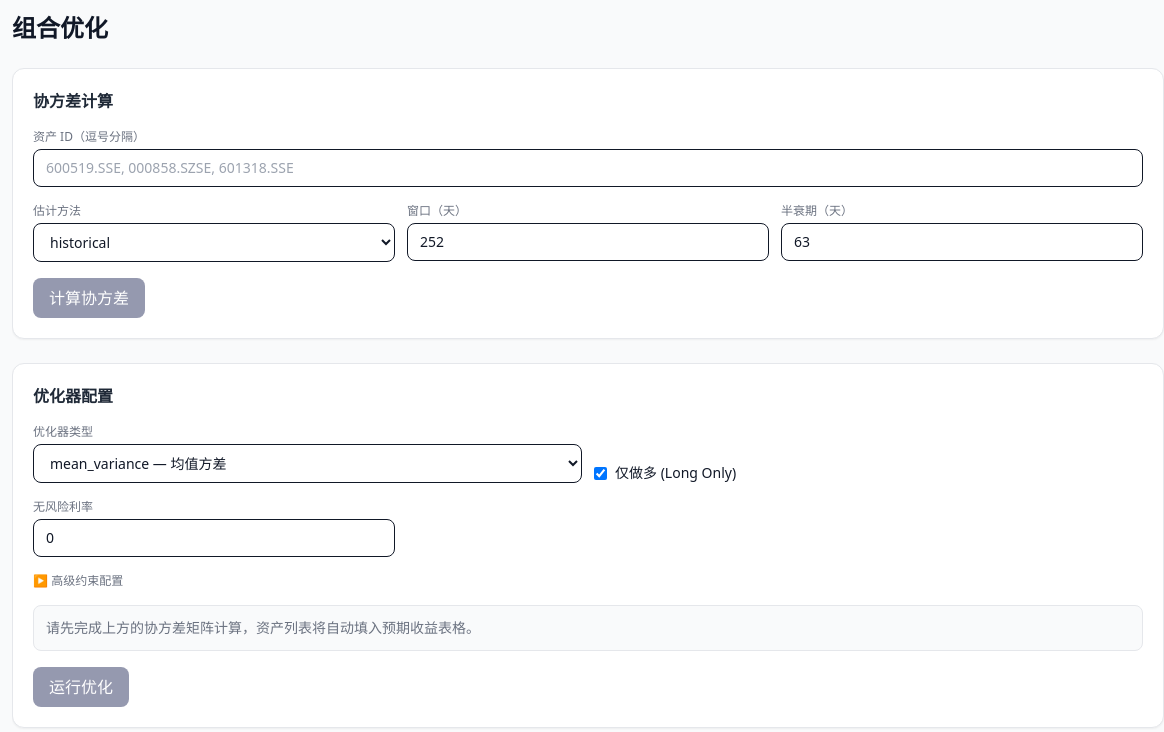
Test: OptimizePage › shows cost_aware fields when cost_aware optimizer is selected
This screenshot has width=1164, height=732.
Select "cost_aware — 成本感知" in the dropdown showing "mean_variance" below "优化器类型": (308, 464) [33,444,582,483]
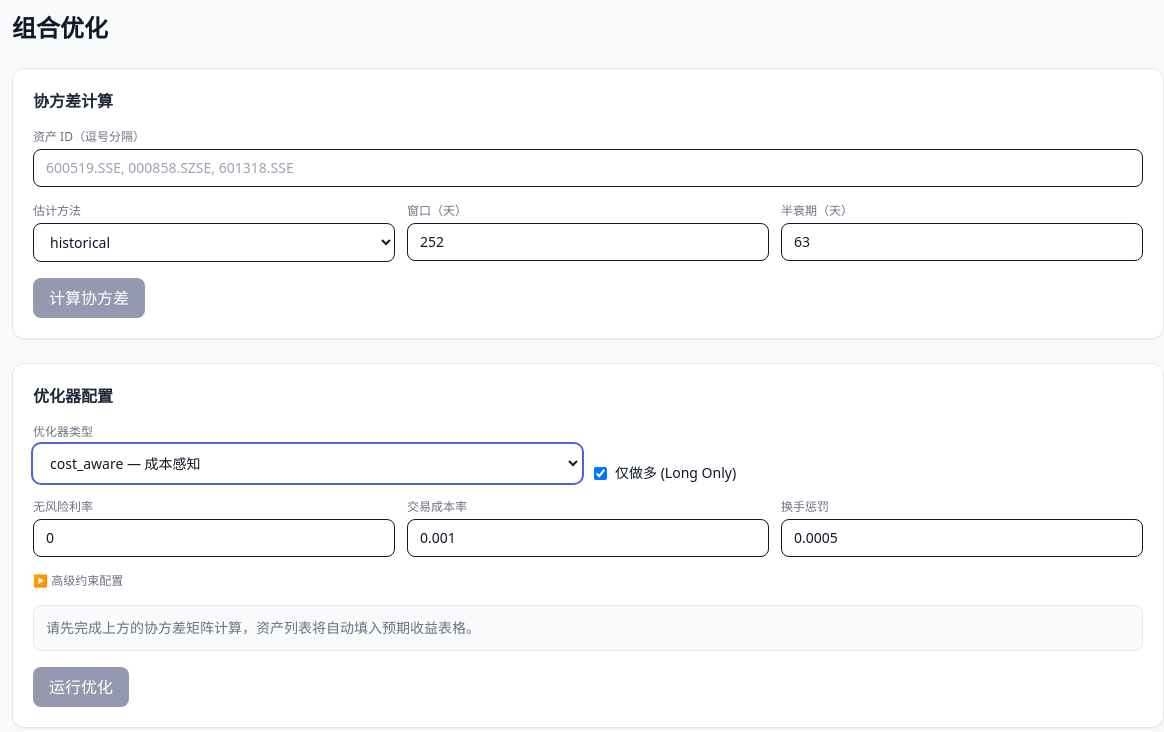
Result: the text "交易成本率" is shown at [407,498,467,515]
Result: the text "换手惩罚" is shown at [781,498,829,515]
